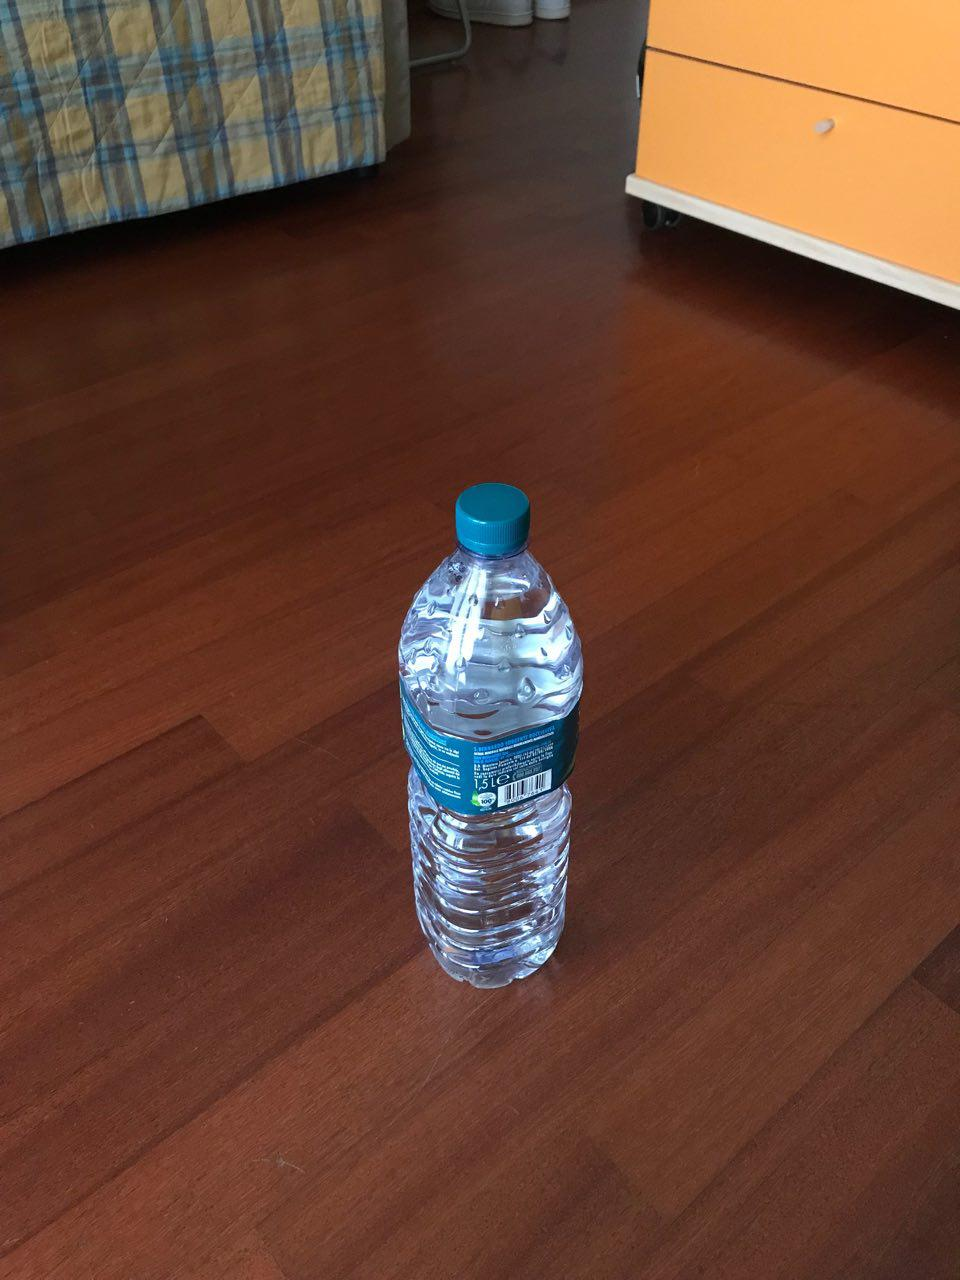san_bernardo: (395, 479, 587, 991)
